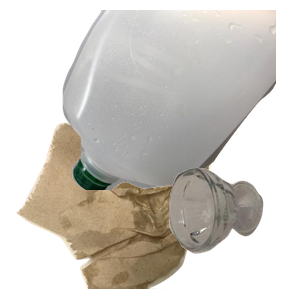glass: (166, 165, 300, 300)
metal: (73, 42, 277, 212)
plastic: (60, 10, 300, 190)
trash: (14, 120, 222, 300)
